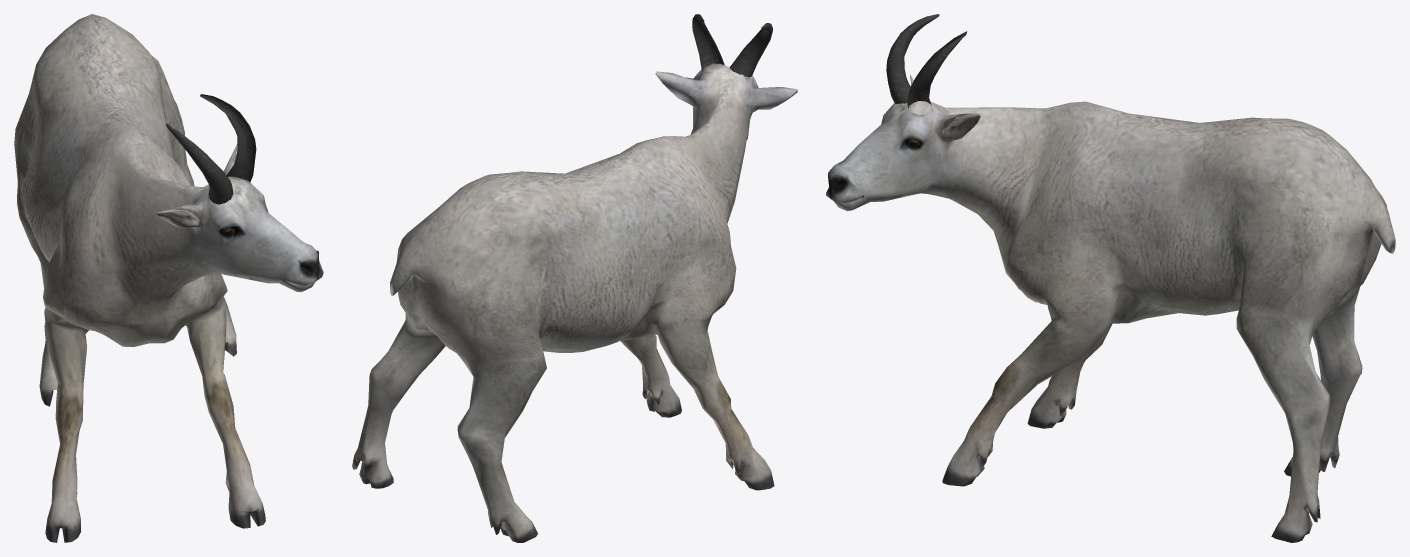
Rendered from mountain_goat.glb.
The picture shows the model from 3 angles, left to right: view 1: azimuth 30°, elevation 25°; view 2: azimuth 150°, elevation 25°; view 3: azimuth 270°, elevation 25°; orthographic projection. The views are drawn at different scales.
Parts seen in each view (by area): view 1: MountainGoat_Antler_applied_clean_M_MountainGoat_0_M_Mountai, MountainGoat_Antler_applied_clean_MountainGoat_Antle_0_Mount; view 2: MountainGoat_Antler_applied_clean_M_MountainGoat_0_M_Mountai, MountainGoat_Antler_applied_clean_MountainGoat_Antle_0_Mount; view 3: MountainGoat_Antler_applied_clean_M_MountainGoat_0_M_Mountai, MountainGoat_Antler_applied_clean_MountainGoat_Antle_0_Mount.
Boxes of the visible parts, x1,y1,x2,y2 form: MountainGoat_Antler_applied_clean_M_MountainGoat_0_M_Mountai: [14, 14, 323, 542]; MountainGoat_Antler_applied_clean_MountainGoat_Antle_0_Mount: [165, 94, 256, 204]; MountainGoat_Antler_applied_clean_M_MountainGoat_0_M_Mountai: [352, 63, 797, 542]; MountainGoat_Antler_applied_clean_MountainGoat_Antle_0_Mount: [692, 14, 772, 77]; MountainGoat_Antler_applied_clean_M_MountainGoat_0_M_Mountai: [826, 74, 1395, 542]; MountainGoat_Antler_applied_clean_MountainGoat_Antle_0_Mount: [886, 14, 966, 107].
Bounding box in the file's own units: 1.05 × 1.43 × 1.68.
2 materials, 2 textured.
